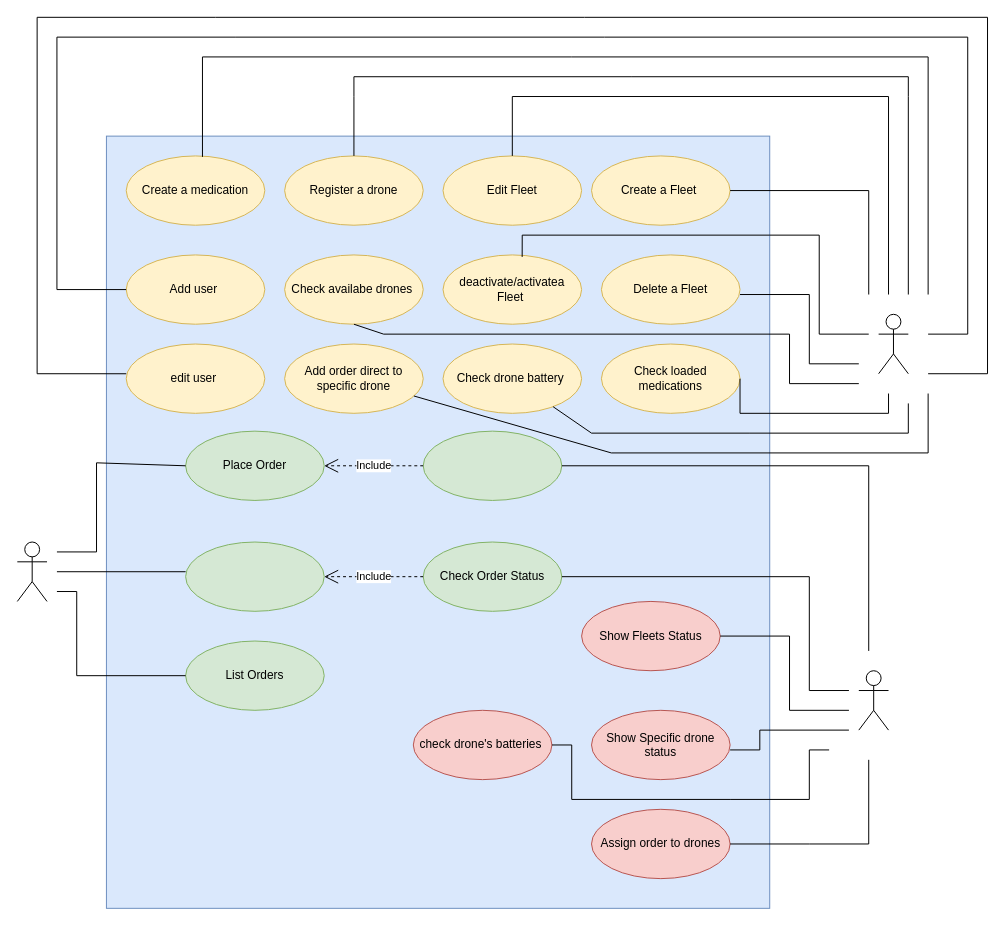
Image size: 1006x926. Some labels were removed from this diagram. The centre of each missing label's shape, as x and y in pixels:
Admin: (893,343)
Cancel Order Order: (254,576)
Check City Support: (492,465)
Client: (31,571)
drones-system: (873,700)
